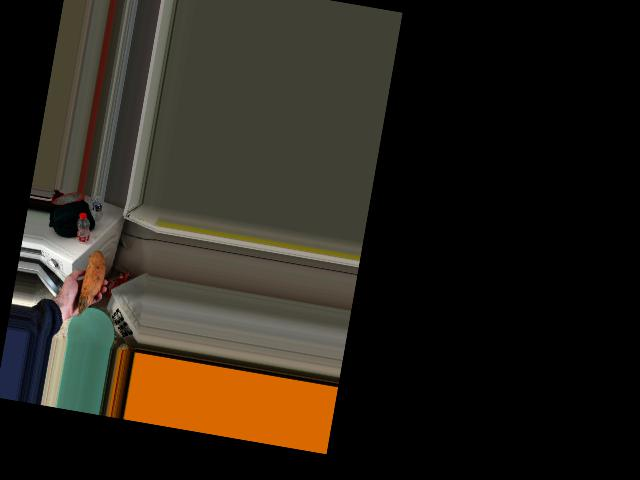sweet_potato: (75, 255, 107, 312)
